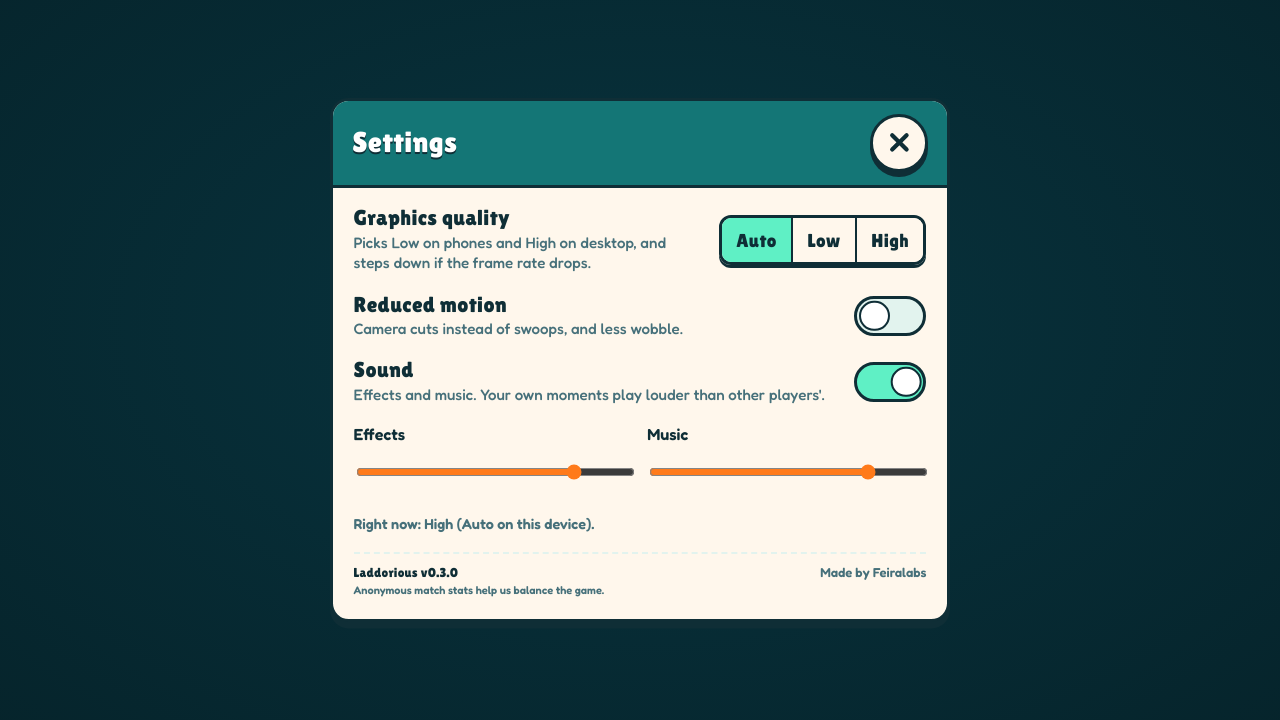
Test: SettingsDialog (spec #2 §7.1, §9.2) › saves the graphics quality and shows its description and the level in use
Check: the dialog shows "Right now: High (Auto on this device)", box [354,515,594,532]
Click the button "Low".
click(823, 240)  # box [791,218,855,262]
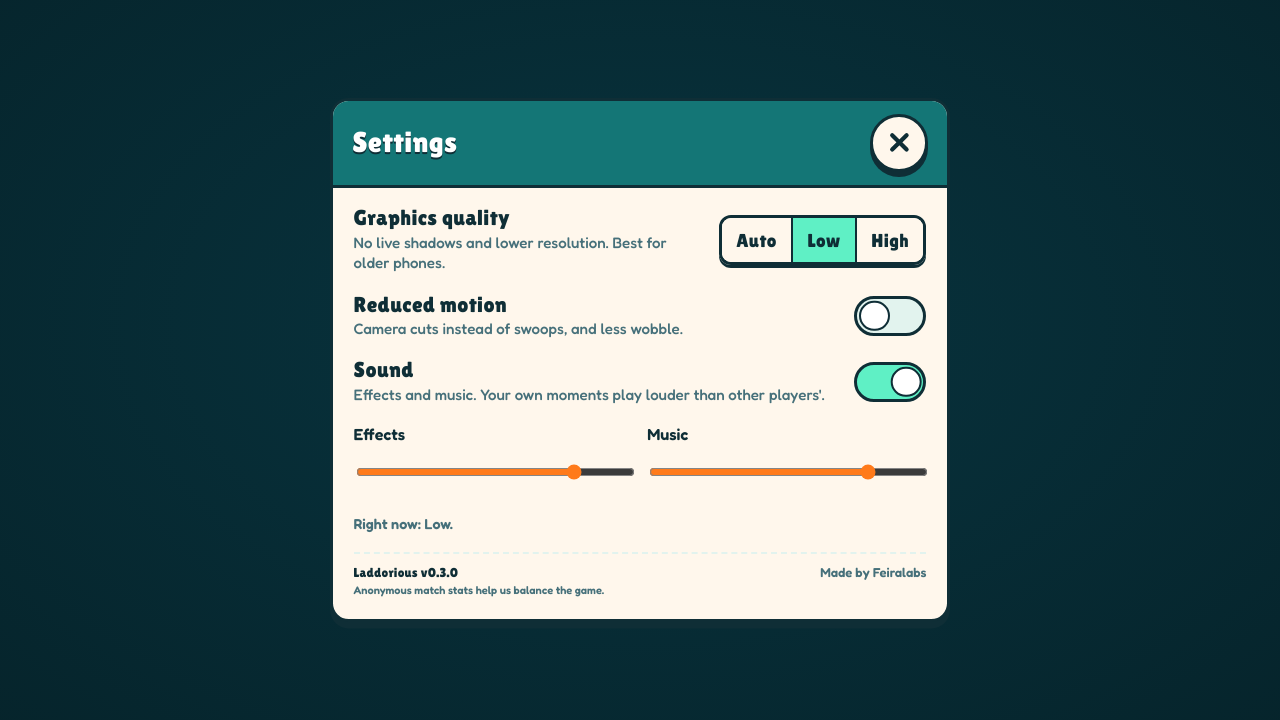
Check: the dialog shows "No live shadows and lower resolution. Best for older phones.", box [354,233,667,272]
Check: the dialog shows "Right now: Low", box [354,515,453,532]
